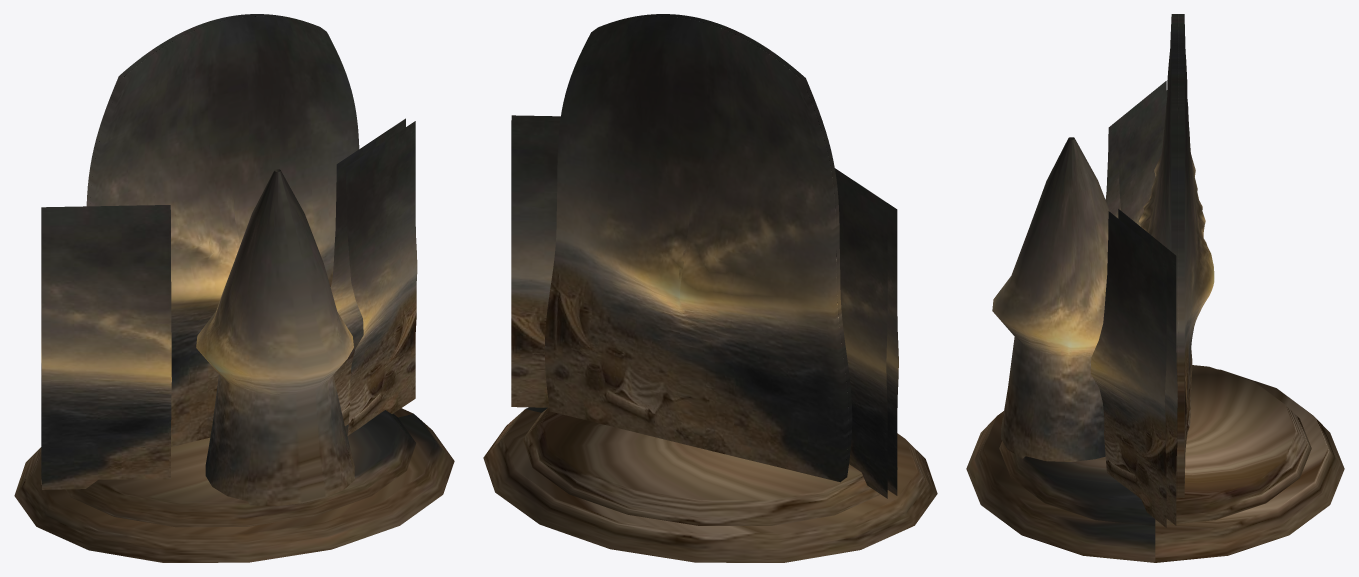
Rendered from genesis-1.glb.
3 views of the same model, side by side, from view 1: azimuth 30°, elevation 25°; view 2: azimuth 150°, elevation 25°; view 3: azimuth 270°, elevation 25° (orthographic). The views are drawn at different scales.
Parts seen in each view (by area): view 1: PaintingSculptureMonument; view 2: PaintingSculptureMonument; view 3: PaintingSculptureMonument.
Part boxes in pixels (x1,y1,x2,y2): PaintingSculptureMonument: (14, 14, 454, 562); PaintingSculptureMonument: (483, 14, 937, 562); PaintingSculptureMonument: (966, 14, 1344, 562).
Bounding box in the file's own units: 2.76 × 2.99 × 2.35.
Materials: 1 (1 with a texture image).
